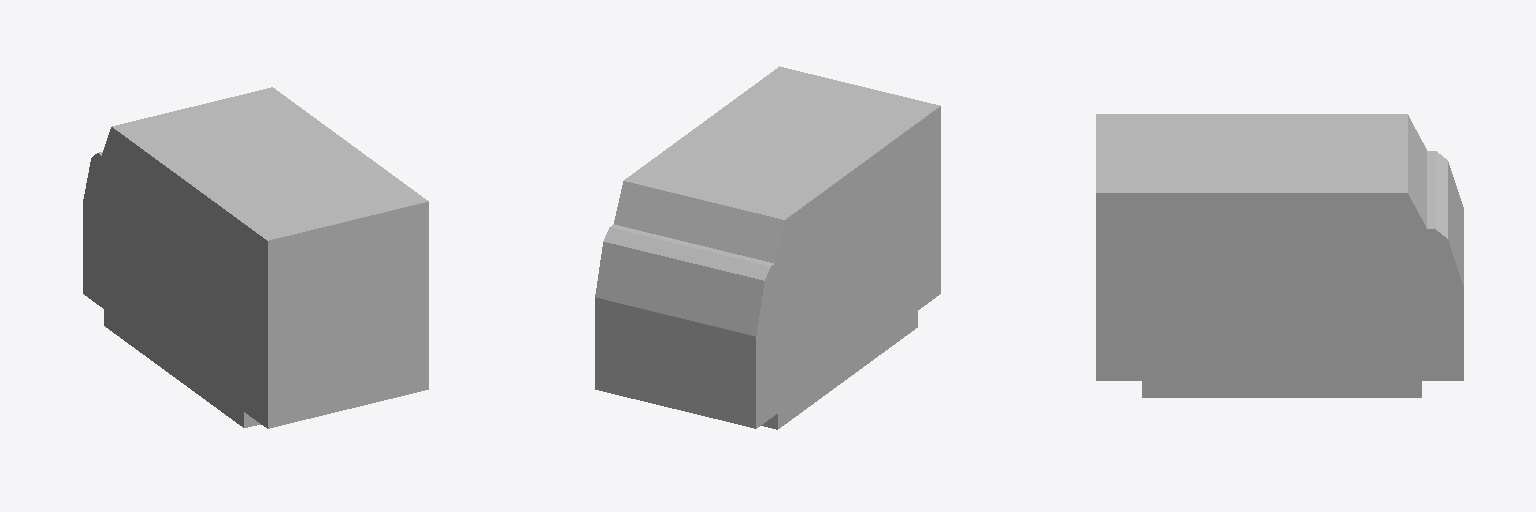
The model's file is truck-green.obj.
3 views of the same model, side by side, from view 1: azimuth 30°, elevation 25°; view 2: azimuth 150°, elevation 25°; view 3: azimuth 270°, elevation 25° (orthographic).
Visible parts, largest first — view 1: truck-green; view 2: truck-green; view 3: truck-green.
Part boxes in pixels (bbox=[...]): truck-green: bbox=[83, 87, 428, 428]; truck-green: bbox=[595, 66, 940, 429]; truck-green: bbox=[1096, 114, 1463, 397].
Size of the model in its own units: 0.83 by 1.01 by 1.64.